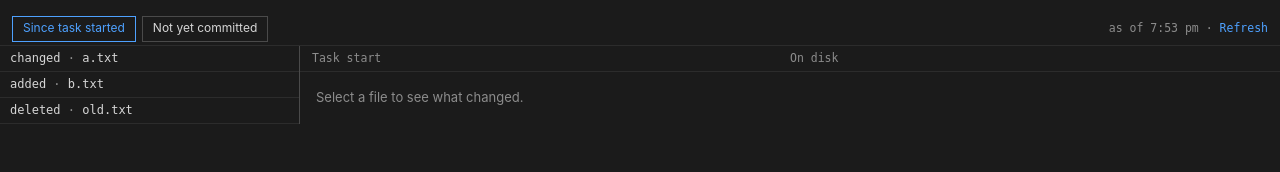
Scenario: modes and listings › a clean baseline offers Since task started first, from the baseline diff plus untracked files, then Not yet committed from status
Click the button with class "chip" showing "Not yet committed" at (205, 28), box 142,16 -> 268,42
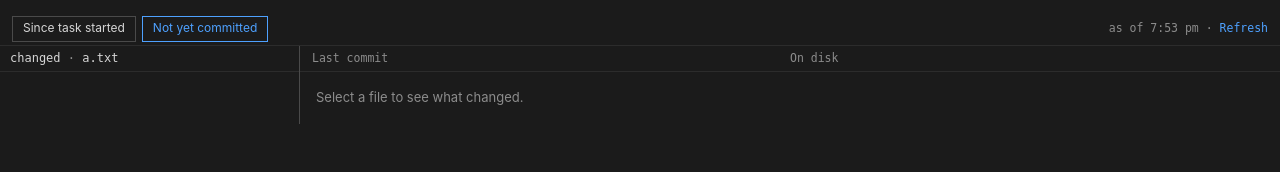
Expected: the text "Last commit" is shown, 312,51 -> 388,65
